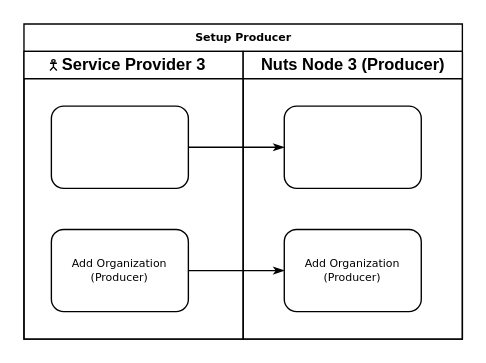
The diagram is 486 pixels wide and 363 high, and some of its shapes have lost their labels. The shapes that lost their labels are listed below. From the top down, each one's centre as x and y in pixels, then its label:
At (x=119, y=146): "Add Service Provider (Node 3 SP)".
At (x=352, y=146): "Add Service Provider (Service Provider 3)".
